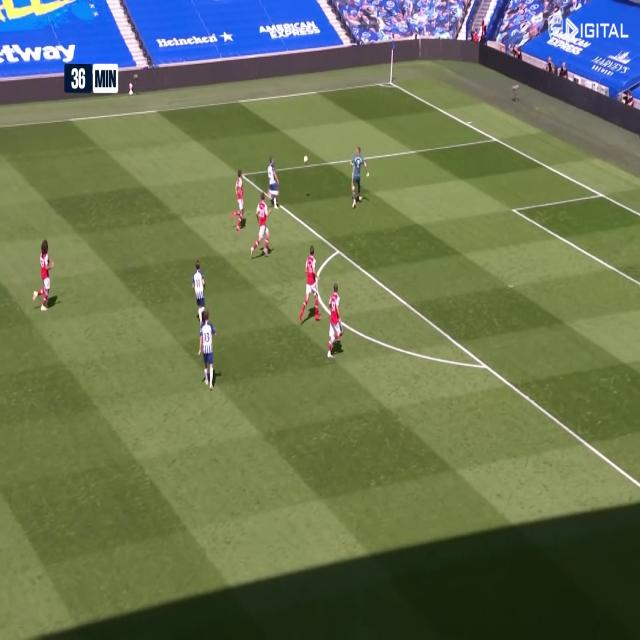Ball: (304, 152, 310, 167)
GoalKeeper: (349, 146, 366, 210)
TEAM 1: (300, 238, 322, 332), (36, 239, 58, 311), (230, 166, 248, 244), (250, 198, 272, 258), (327, 283, 344, 357)
TEAM 2: (199, 314, 216, 388), (193, 264, 207, 321), (266, 158, 280, 212)
